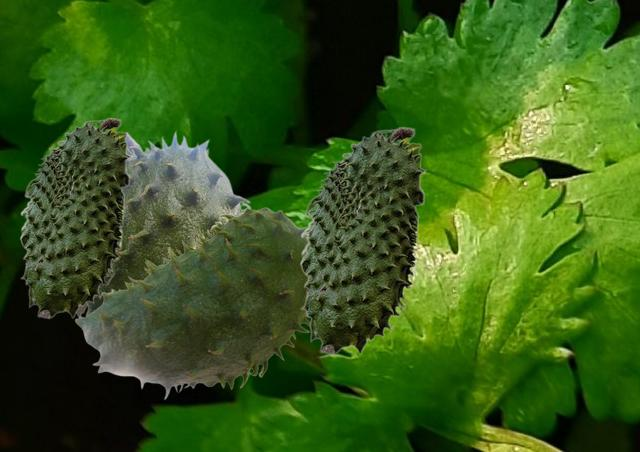guyabano: (74, 207, 309, 399), (85, 129, 251, 315), (299, 126, 425, 354), (19, 117, 130, 318)
